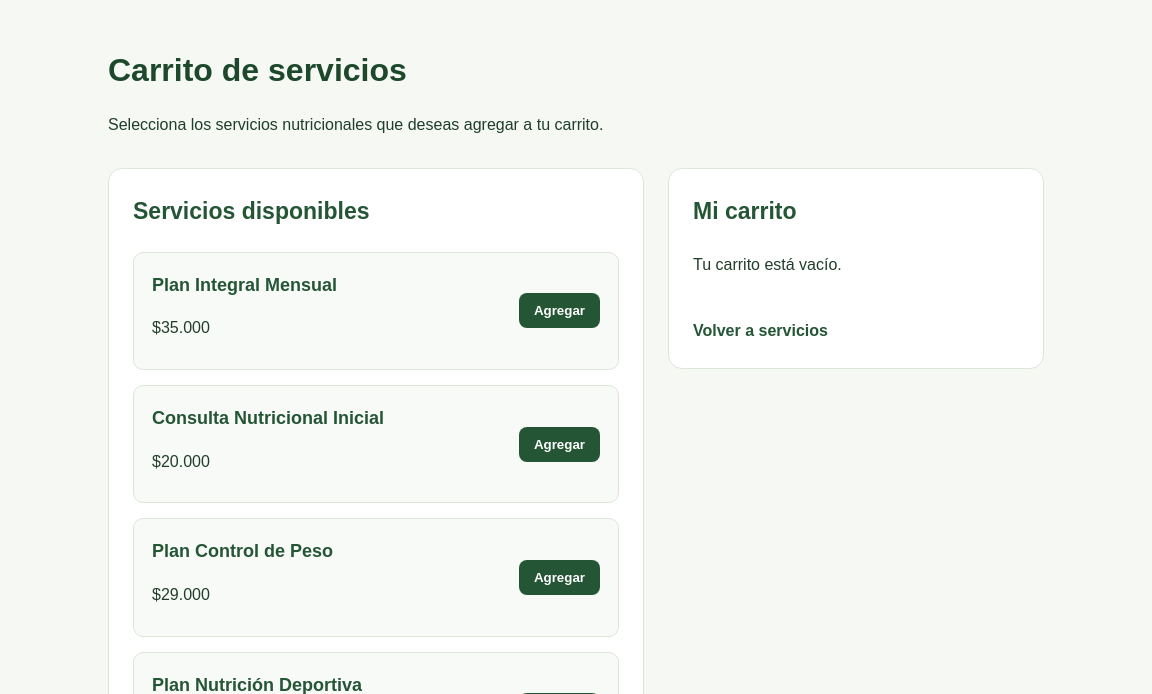
Carrito de servicios NutriVida › Agrega un servicio con cantidad 1
The image size is (1152, 694).
Click the button "Agregar" in the row of "$35.000" at (559, 311), box [519,293,600,328]
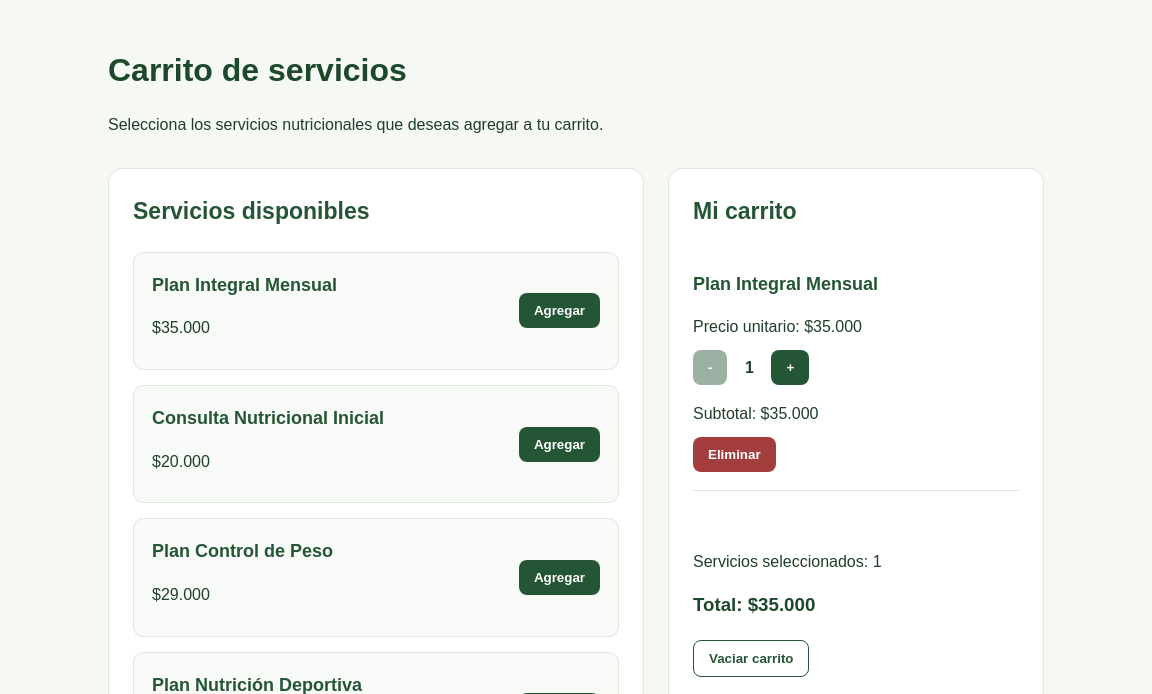
Expected: the text "Servicios seleccionados: 1" is shown, [693,553,882,570]
Expected: the heading "Total: $35.000" is shown, [693,594,815,615]
